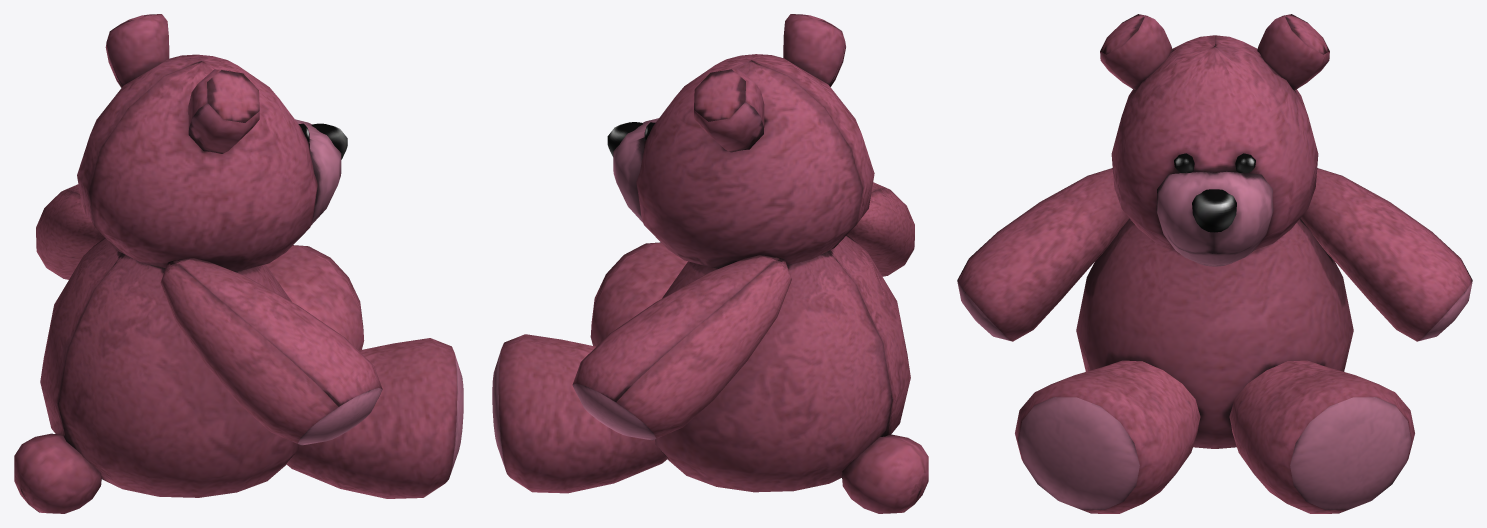
File: Teddybear.FBX
3 renders of one model, left to right at view 1: azimuth 30°, elevation 25°; view 2: azimuth 150°, elevation 25°; view 3: azimuth 270°, elevation 25°, orthographic. The views are drawn at different scales.
Visible parts, largest first — view 1: TeddyBearz; view 2: TeddyBearz; view 3: TeddyBearz.
Part boxes in pixels (x1,y1,x2,y2): TeddyBearz: (14, 14, 463, 513); TeddyBearz: (492, 14, 928, 513); TeddyBearz: (957, 14, 1472, 513).
Bounding box in the file's own units: 32.44 × 36.15 × 40.34.
1 material, 1 textured.
